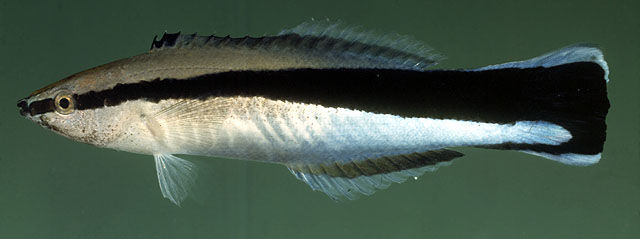fish: (17, 16, 611, 210)
